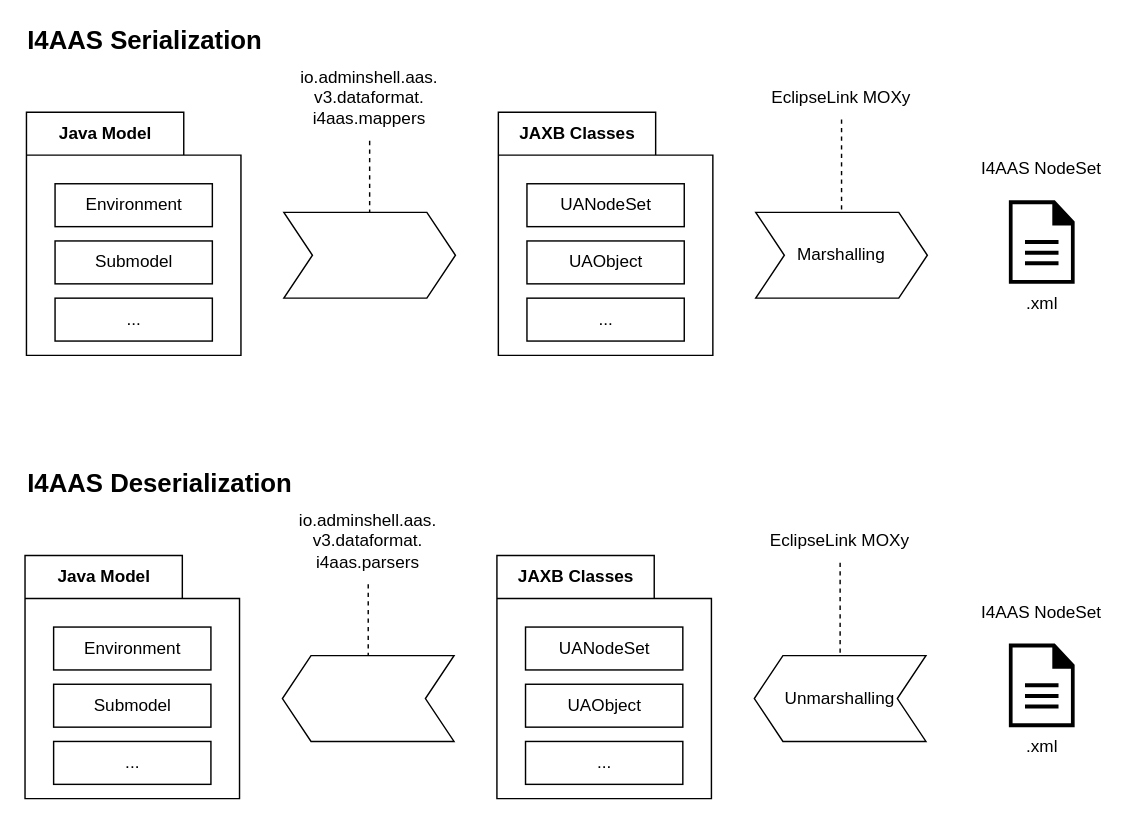
This 1138x824 diagram has some shape labels left out. Here are the shapes that lost their labels. From the top down, the centre of each, then its label:
pixel 368 254: Mapping
pixel 367 697: Parser
